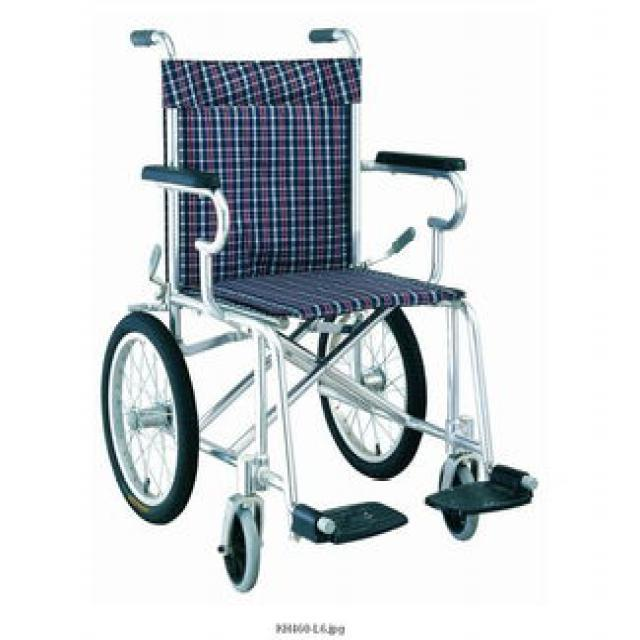wheelchair: (69, 11, 542, 604)
